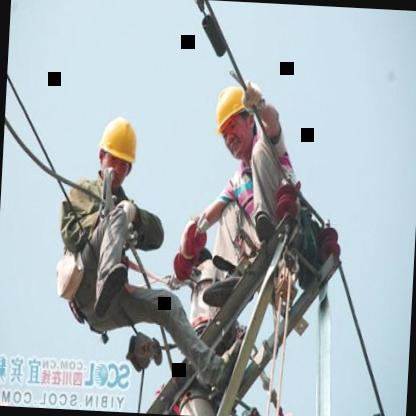helmet: (93, 109, 144, 192), (208, 80, 254, 159)
